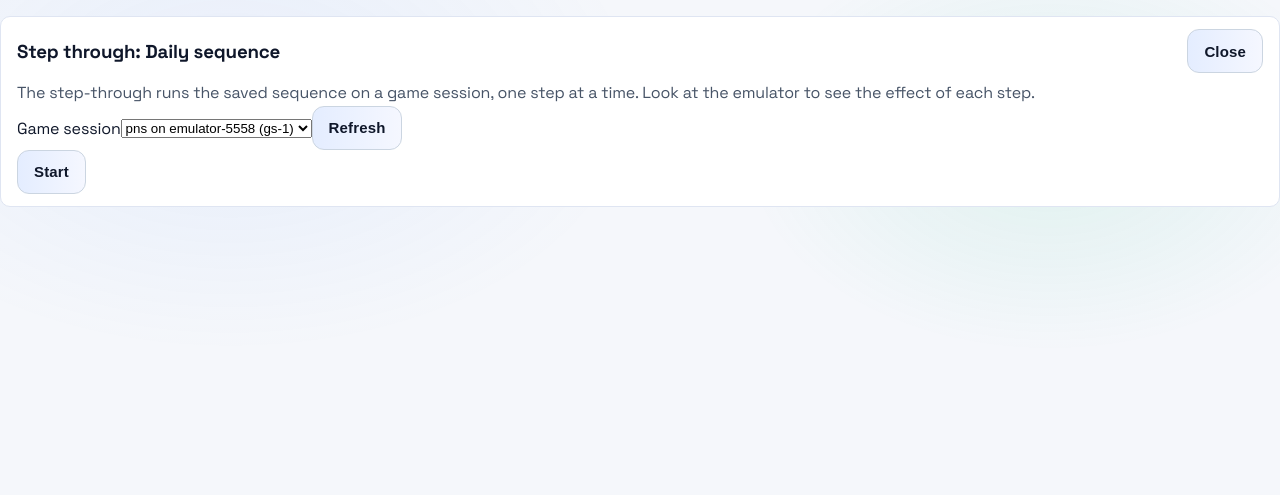
Scenario: StepThroughPanel › shows the message of an error from the API
Click the button "Start": (51, 172) [17,150,86,194]
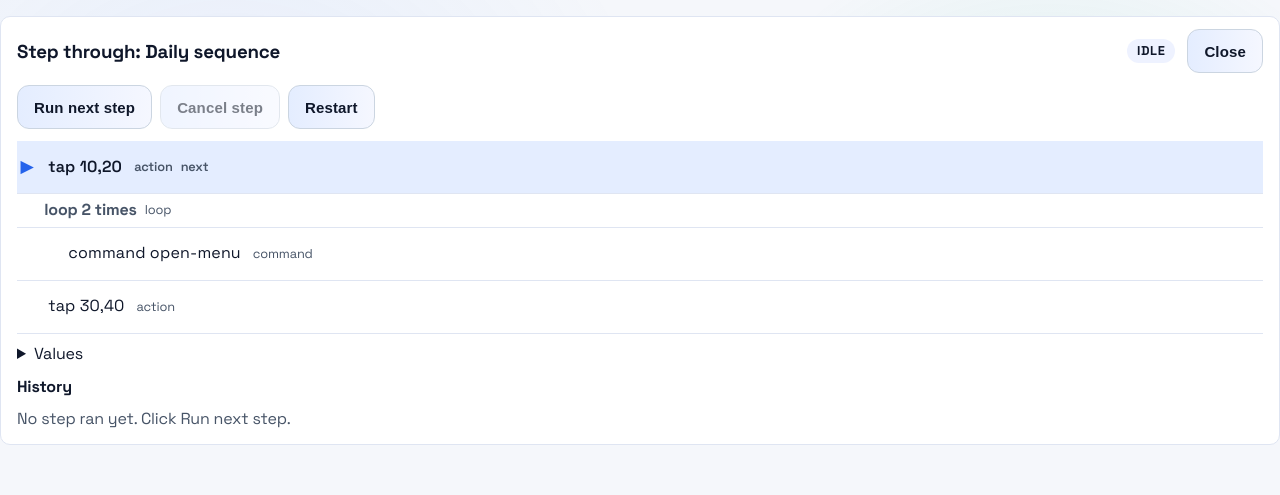
Check: the list named "Steps" is shown, box [17,141,1263,334]
Click the button "Run next step": (85, 107) [17,85,152,129]
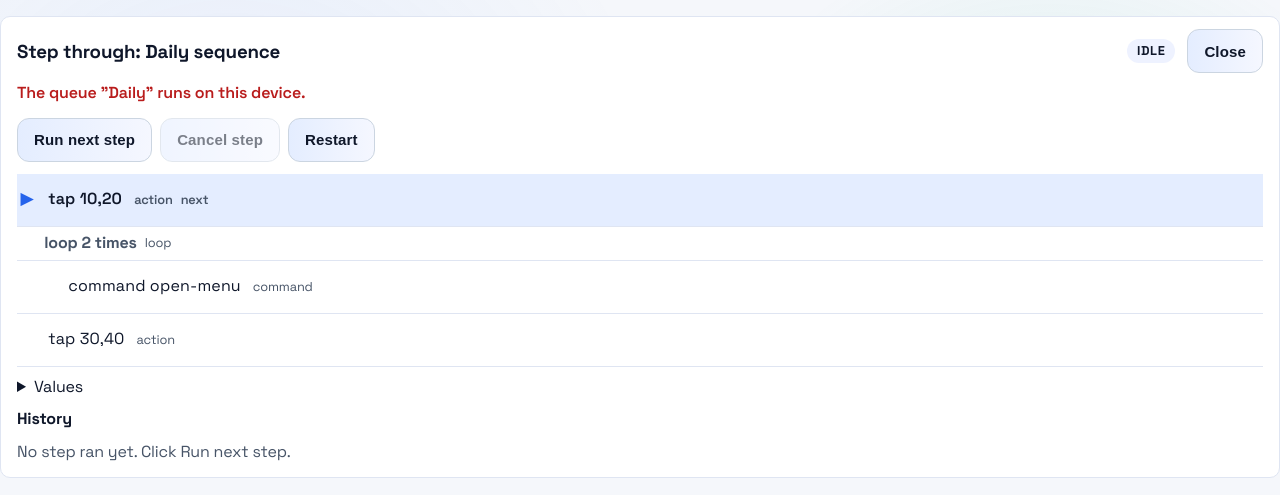
Check: the message "The queue \"Daily\" runs on this device." reads "The queue \"Daily\" runs on this device.", box [17,82,305,103]
